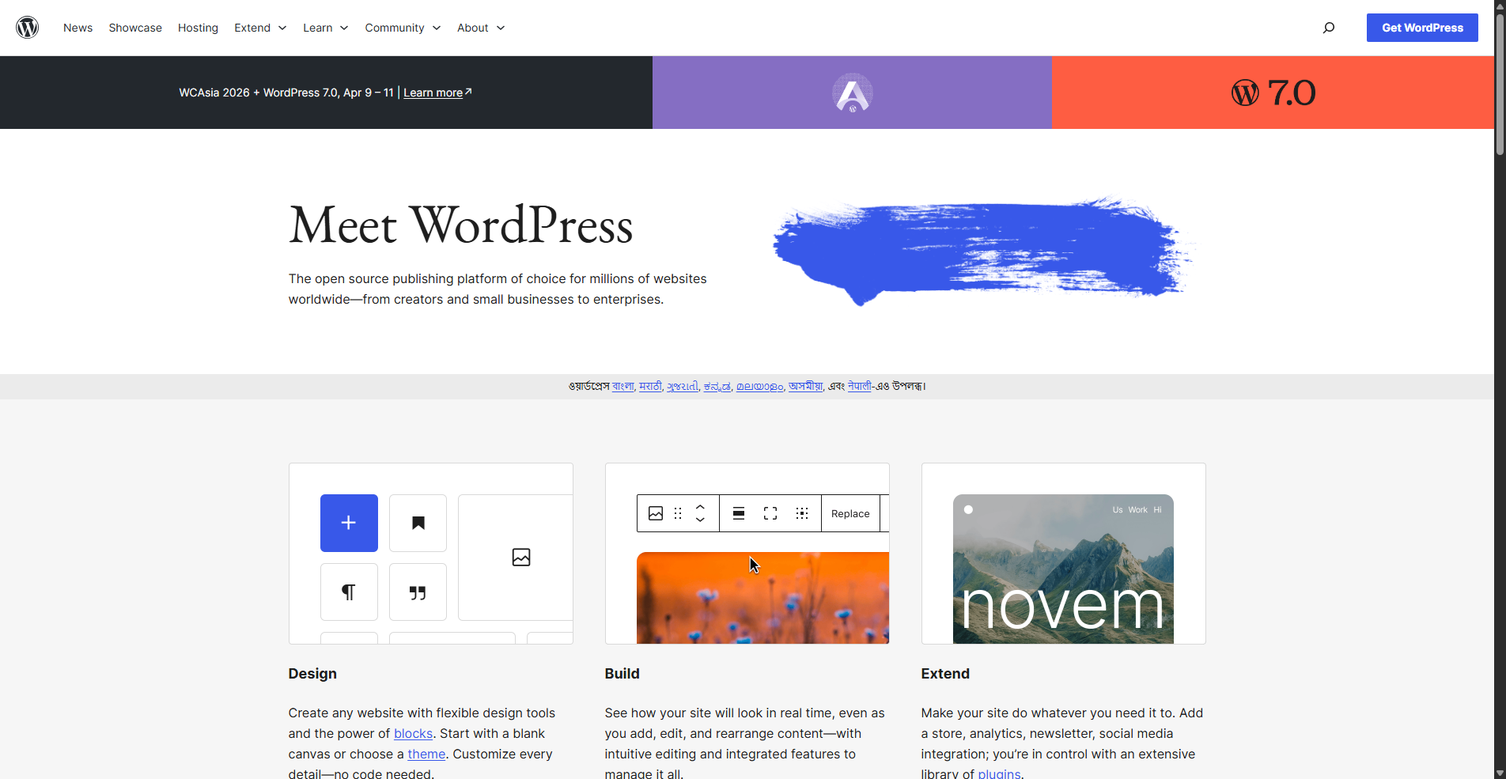button: (357, 0, 449, 55), (226, 0, 295, 55), (449, 0, 513, 55), (295, 0, 357, 55), (1307, 0, 1351, 55)
link: (357, 159, 469, 194), (101, 0, 170, 55), (449, 55, 556, 89), (295, 55, 400, 89), (357, 55, 461, 89), (295, 194, 394, 229), (357, 124, 455, 159), (295, 89, 391, 124), (1367, 13, 1478, 42), (449, 159, 539, 194), (170, 0, 226, 55), (226, 194, 313, 229), (0, 0, 55, 55), (449, 124, 534, 159), (357, 229, 440, 263), (295, 159, 370, 194), (55, 0, 101, 55), (449, 89, 518, 124), (357, 89, 425, 124), (1231, 79, 1315, 106), (226, 124, 286, 159), (226, 55, 284, 89), (295, 124, 350, 159), (226, 89, 280, 124), (226, 159, 277, 194), (357, 194, 408, 229), (832, 73, 873, 112), (404, 85, 463, 99), (408, 746, 445, 762), (394, 726, 433, 741), (736, 380, 783, 392), (978, 767, 1021, 779), (789, 380, 823, 392), (667, 380, 698, 392), (704, 380, 731, 392), (639, 380, 662, 392), (848, 380, 871, 392), (612, 380, 634, 392)
